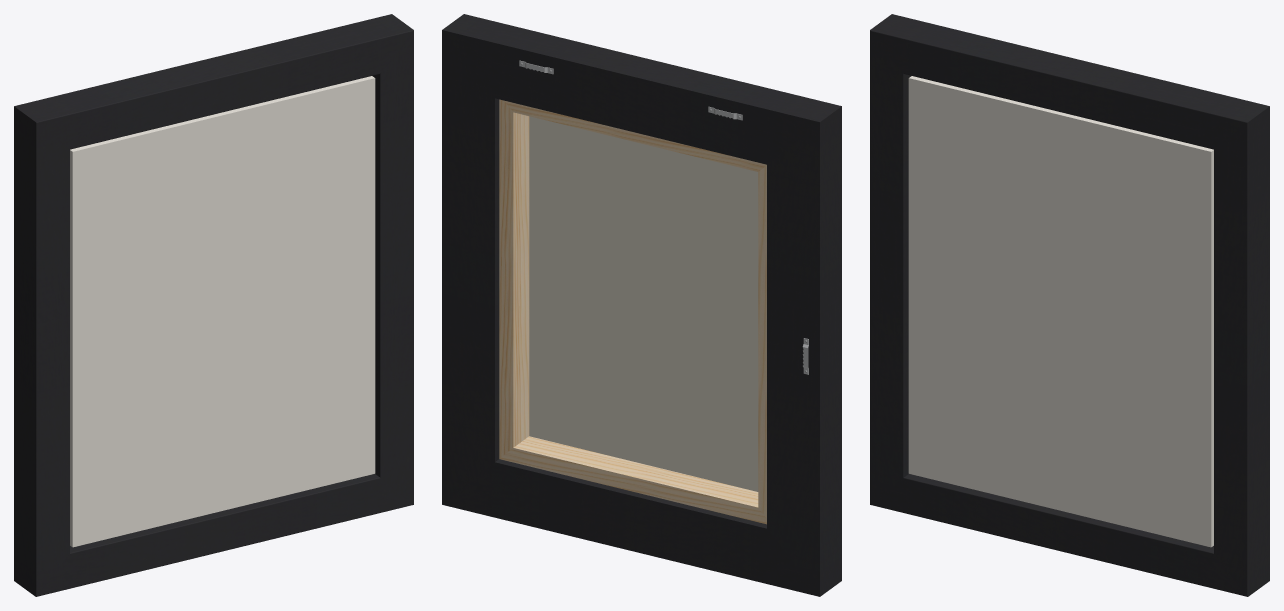
The model's file is delivery.glb.
The picture shows the model from 3 angles, left to right: view 1: azimuth 30°, elevation 25°; view 2: azimuth 150°, elevation 25°; view 3: azimuth 330°, elevation 25°; orthographic projection.
Visible parts, largest first — view 1: Canvas artwork front, Tray approved profile 0; view 2: Tray approved profile 0, Canvas linen reverse, Stretcher top, Sawtooth hanger 0; view 3: Canvas artwork front, Tray approved profile 0.
Boxes of the visible parts, left/top/right/bottom form: Canvas artwork front: left=70, top=76, right=375, bottom=547; Tray approved profile 0: left=14, top=14, right=413, bottom=596; Tray approved profile 0: left=442, top=14, right=841, bottom=596; Canvas linen reverse: left=529, top=116, right=758, bottom=491; Stretcher top: left=499, top=99, right=766, bottom=524; Sawtooth hanger 0: left=519, top=60, right=808, bottom=374; Canvas artwork front: left=908, top=76, right=1213, bottom=547; Tray approved profile 0: left=870, top=14, right=1269, bottom=596.
Size of the model in its own units: 0.5 by 0.6 by 0.0534.
Materials: 7 (3 with a texture image).
